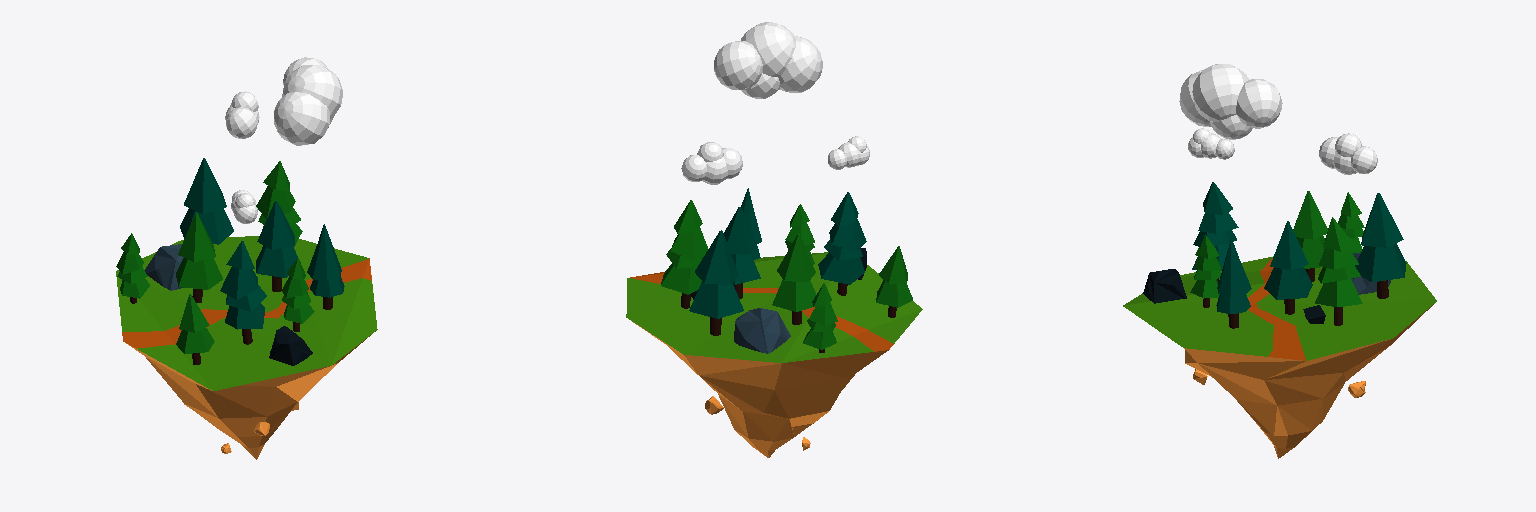
File: Floating Island.obj
3 renders of one model, left to right at view 1: azimuth 30°, elevation 25°; view 2: azimuth 150°, elevation 25°; view 3: azimuth 270°, elevation 25°, orthographic.
Visible parts, largest first — view 1: group[number redacted], group[number redacted], group[number redacted], group[number redacted], group[number redacted], group[number redacted], group[number redacted], group[number redacted], group[number redacted], group[number redacted], group[number redacted], group[number redacted] (+3 smaller); view 2: group[number redacted], group[number redacted], group[number redacted], group[number redacted], group[number redacted], group[number redacted], group[number redacted], group[number redacted], group[number redacted], group[number redacted], group[number redacted], group[number redacted] (+2 smaller); view 3: group[number redacted], group[number redacted], group[number redacted], group[number redacted], group[number redacted], group[number redacted], group[number redacted], group[number redacted], group[number redacted], group[number redacted], group[number redacted], group[number redacted] (+1 smaller).
Boxes of the visible parts, x1=… form: group[number redacted]: x1=116, y1=236, x2=377, y2=459; group[number redacted]: x1=274, y1=57, x2=342, y2=145; group[number redacted]: x1=220, y1=241, x2=266, y2=344; group[number redacted]: x1=180, y1=158, x2=233, y2=244; group[number redacted]: x1=176, y1=213, x2=222, y2=302; group[number redacted]: x1=256, y1=201, x2=300, y2=291; group[number redacted]: x1=307, y1=224, x2=344, y2=309; group[number redacted]: x1=256, y1=161, x2=302, y2=246; group[number redacted]: x1=176, y1=294, x2=214, y2=364; group[number redacted]: x1=282, y1=258, x2=314, y2=331; group[number redacted]: x1=116, y1=233, x2=149, y2=303; group[number redacted]: x1=225, y1=91, x2=259, y2=138; group[number redacted]: x1=626, y1=252, x2=922, y2=457; group[number redacted]: x1=714, y1=22, x2=822, y2=98; group[number redacted]: x1=689, y1=230, x2=743, y2=335; group[number redacted]: x1=818, y1=192, x2=866, y2=295; group[number redacted]: x1=661, y1=200, x2=707, y2=308; group[number redacted]: x1=772, y1=234, x2=815, y2=324; group[number redacted]: x1=734, y1=308, x2=790, y2=353; group[number redacted]: x1=681, y1=142, x2=742, y2=184; group[number redacted]: x1=724, y1=207, x2=760, y2=298; group[number redacted]: x1=876, y1=246, x2=912, y2=317; group[number redacted]: x1=803, y1=283, x2=837, y2=352; group[number redacted]: x1=828, y1=136, x2=869, y2=169; group[number redacted]: x1=1123, y1=256, x2=1436, y2=458; group[number redacted]: x1=1179, y1=64, x2=1282, y2=139; group[number redacted]: x1=1355, y1=193, x2=1406, y2=298; group[number redacted]: x1=1315, y1=217, x2=1362, y2=325; group[number redacted]: x1=1264, y1=221, x2=1312, y2=314; group[number redacted]: x1=1192, y1=182, x2=1238, y2=283; group[number redacted]: x1=1216, y1=237, x2=1251, y2=328; group[number redacted]: x1=1319, y1=133, x2=1377, y2=174; group[number redacted]: x1=1293, y1=191, x2=1327, y2=281; group[number redacted]: x1=1190, y1=235, x2=1221, y2=307; group[number redacted]: x1=1143, y1=269, x2=1186, y2=303; group[number redacted]: x1=1188, y1=128, x2=1234, y2=159.
Size of the model in its own units: 0.4565 by 0.6982 by 0.4898.